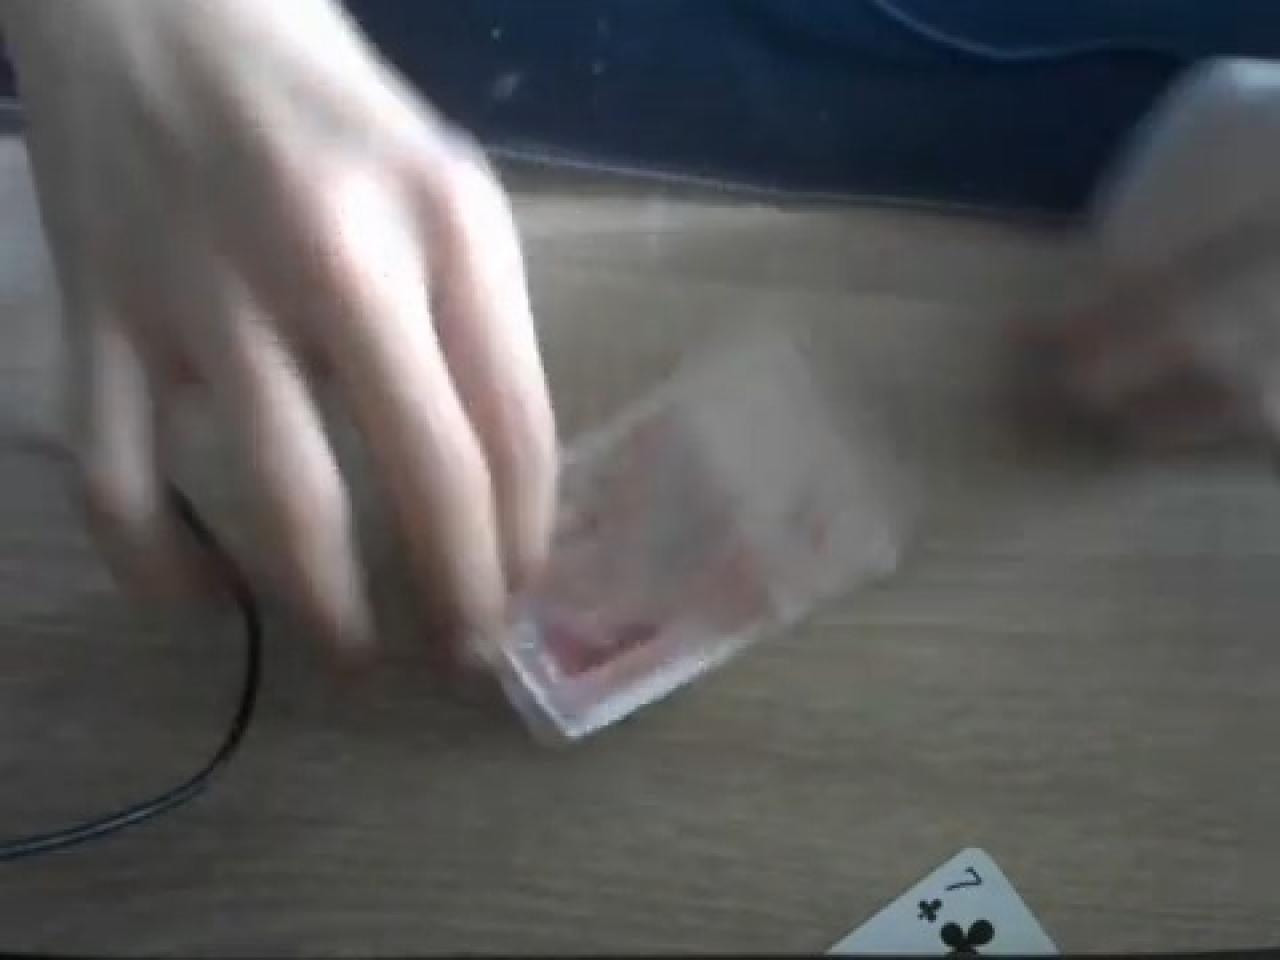5leva: (493, 326, 920, 746)
